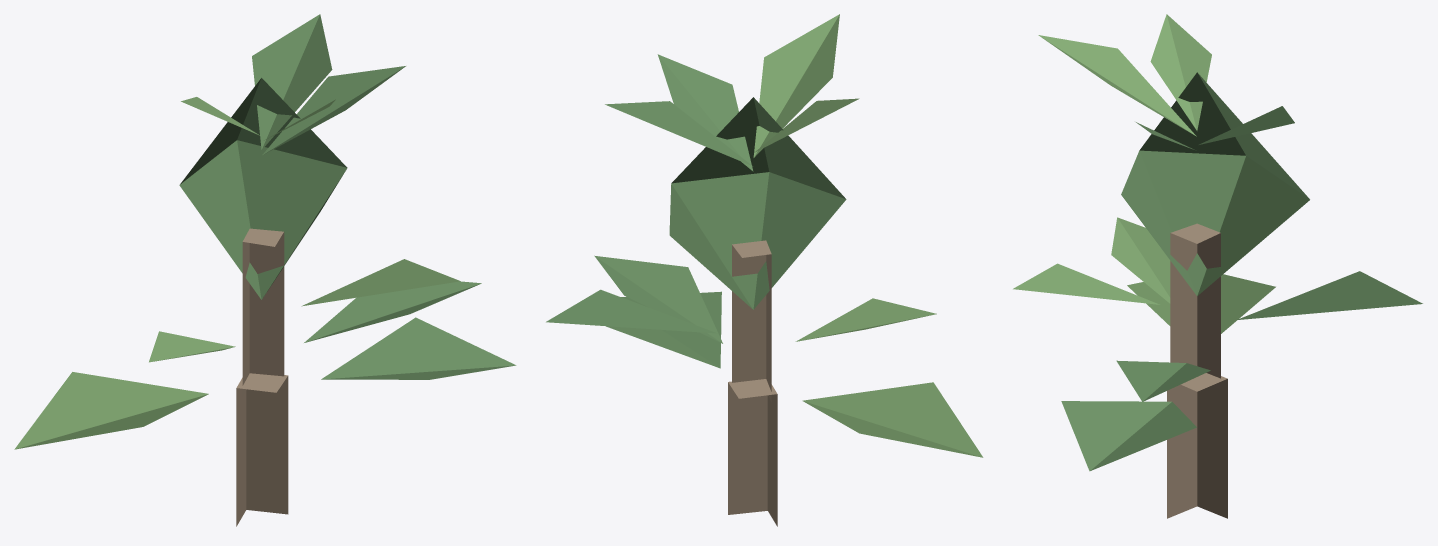
Rendered from shu.longnao@seedling__bloom.glb.
3 views of the same model, side by side, from view 1: azimuth 30°, elevation 25°; view 2: azimuth 150°, elevation 25°; view 3: azimuth 270°, elevation 25° (orthographic). The views are drawn at different scales.
Parts seen in each view (by area): view 1: shu.longnao@seedling__bloom; view 2: shu.longnao@seedling__bloom; view 3: shu.longnao@seedling__bloom.
Boxes of the visible parts, x1,y1,x2,y2 form: shu.longnao@seedling__bloom: [14, 14, 516, 526]; shu.longnao@seedling__bloom: [546, 14, 983, 526]; shu.longnao@seedling__bloom: [1013, 14, 1422, 518].
Size of the model in its own units: 2.72 by 2.77 by 2.16.
